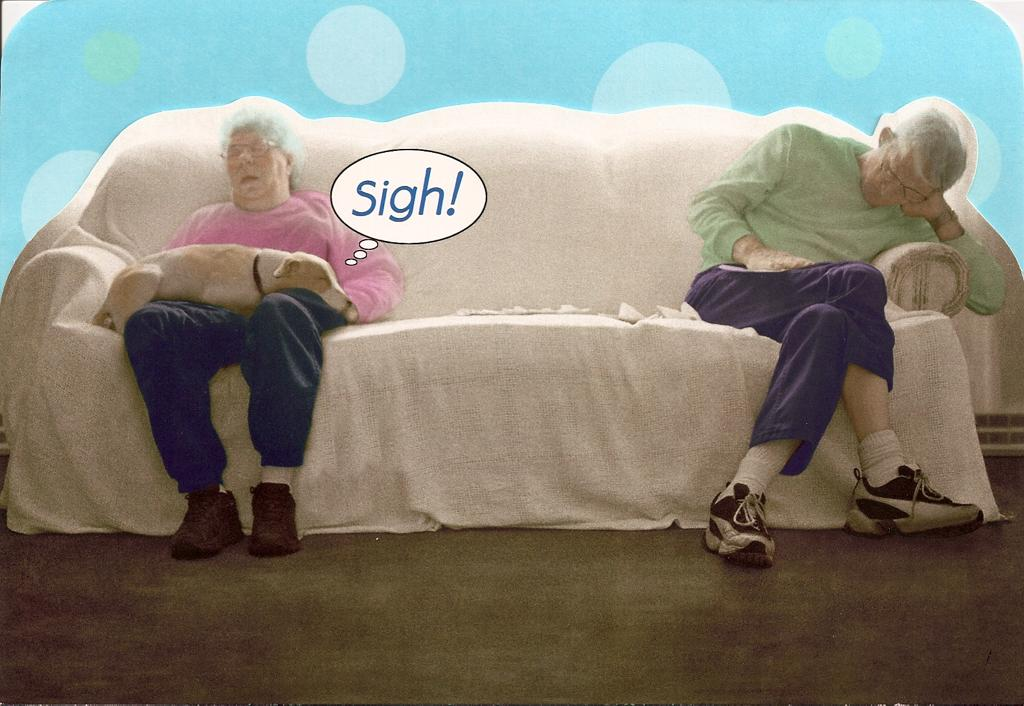face: (226, 128, 290, 196), (868, 148, 928, 212)
